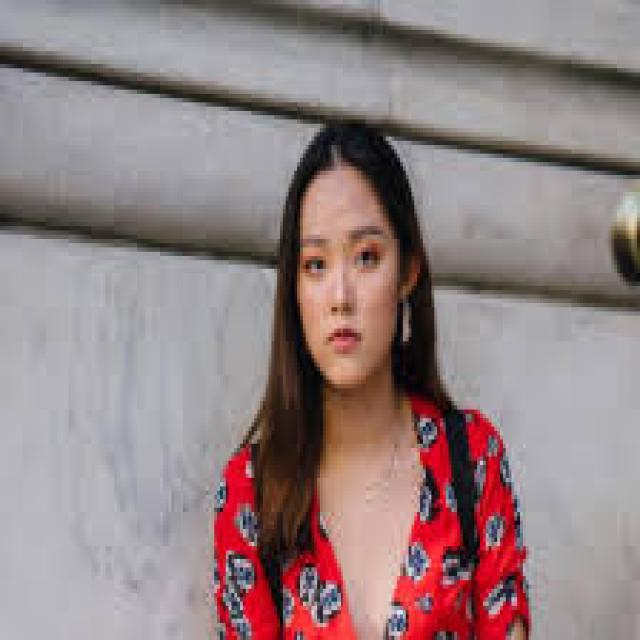sem_oculos: (279, 233, 433, 285)
